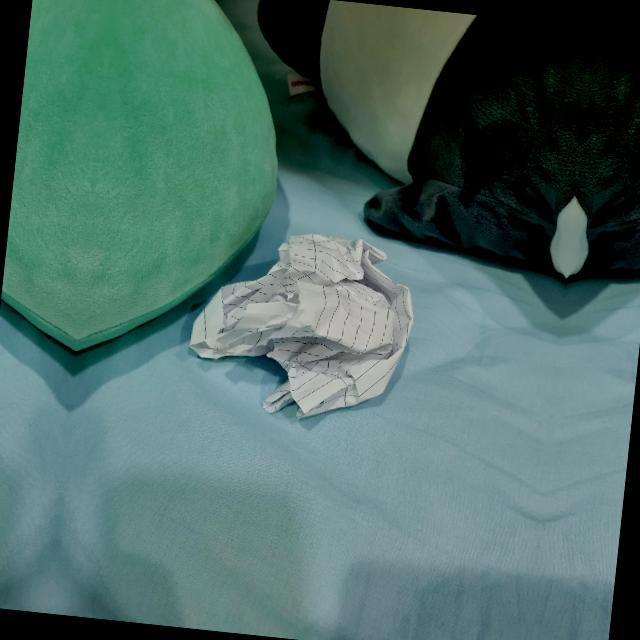paper: (178, 222, 416, 424)
